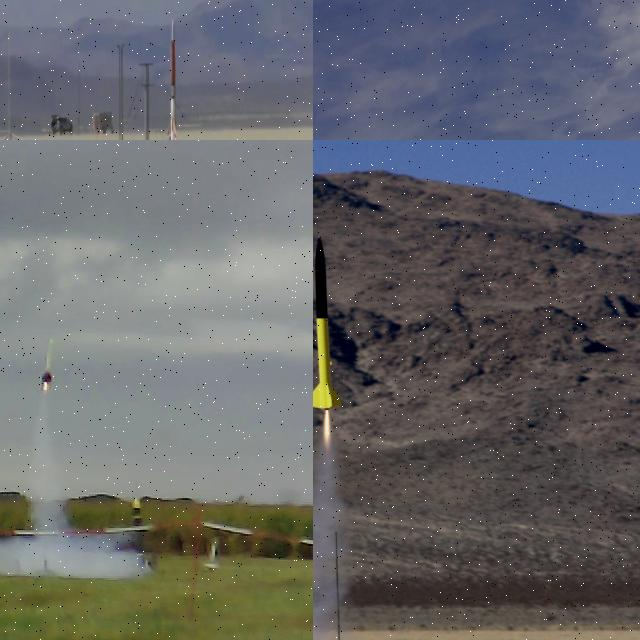Rocket: (313, 234, 343, 411), (130, 494, 158, 570), (167, 18, 178, 140), (39, 337, 56, 382), (202, 537, 224, 570)
